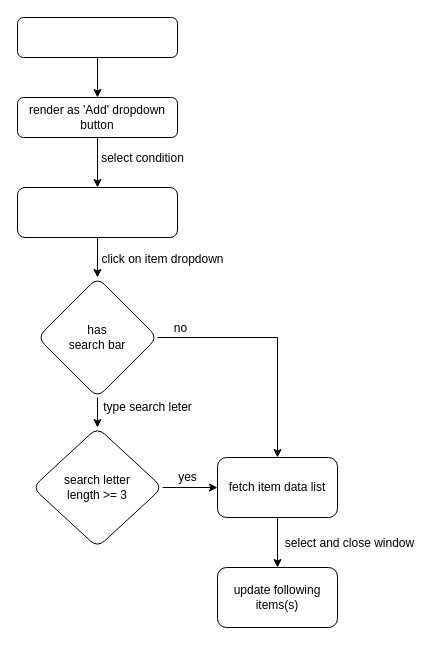
This 437x645 diagram has some shape labels left out. Each missing label, with the centre of its shape:
receive condition data: the point at 97,37
render corresponding item(s) from itemList: the point at 97,212
